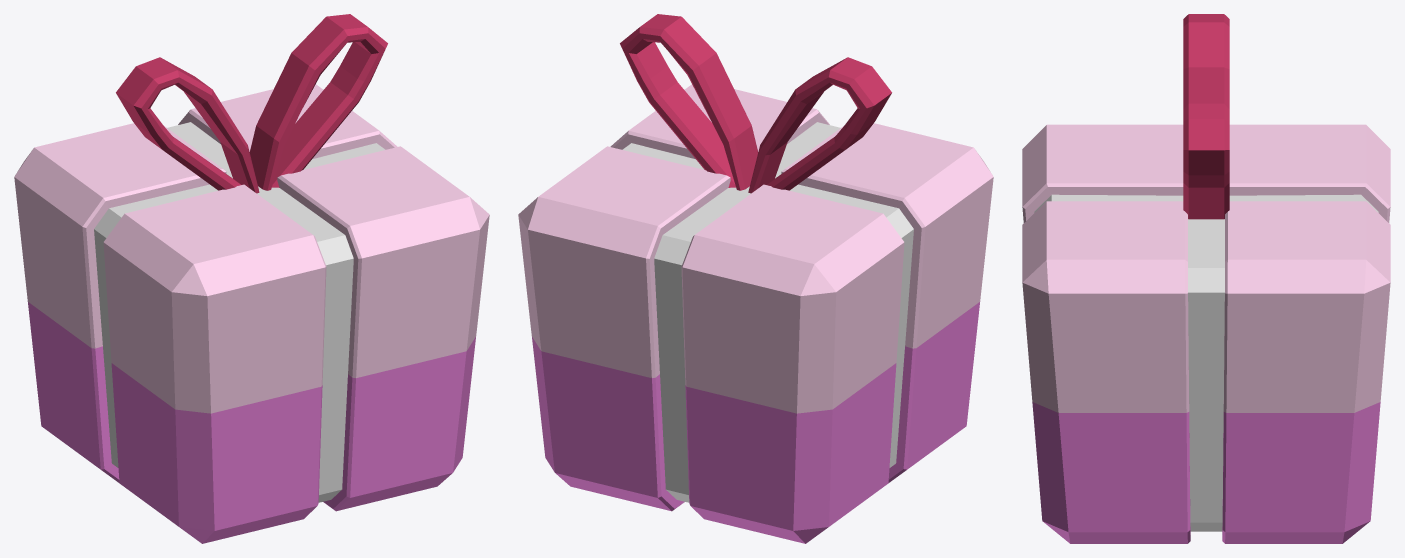
File: skillBox.fbx
3 views of the same model, side by side, from view 1: azimuth 30°, elevation 25°; view 2: azimuth 150°, elevation 25°; view 3: azimuth 270°, elevation 25° (orthographic).
Visible parts, largest first — view 1: skillBox; view 2: skillBox; view 3: skillBox.
Boxes of the visible parts, left/top/right/bottom form: skillBox: left=14, top=14, right=489, bottom=543; skillBox: left=518, top=14, right=993, bottom=543; skillBox: left=1022, top=14, right=1390, bottom=543.
Bounding box in the file's own units: 90.73 × 115 × 90.73.
